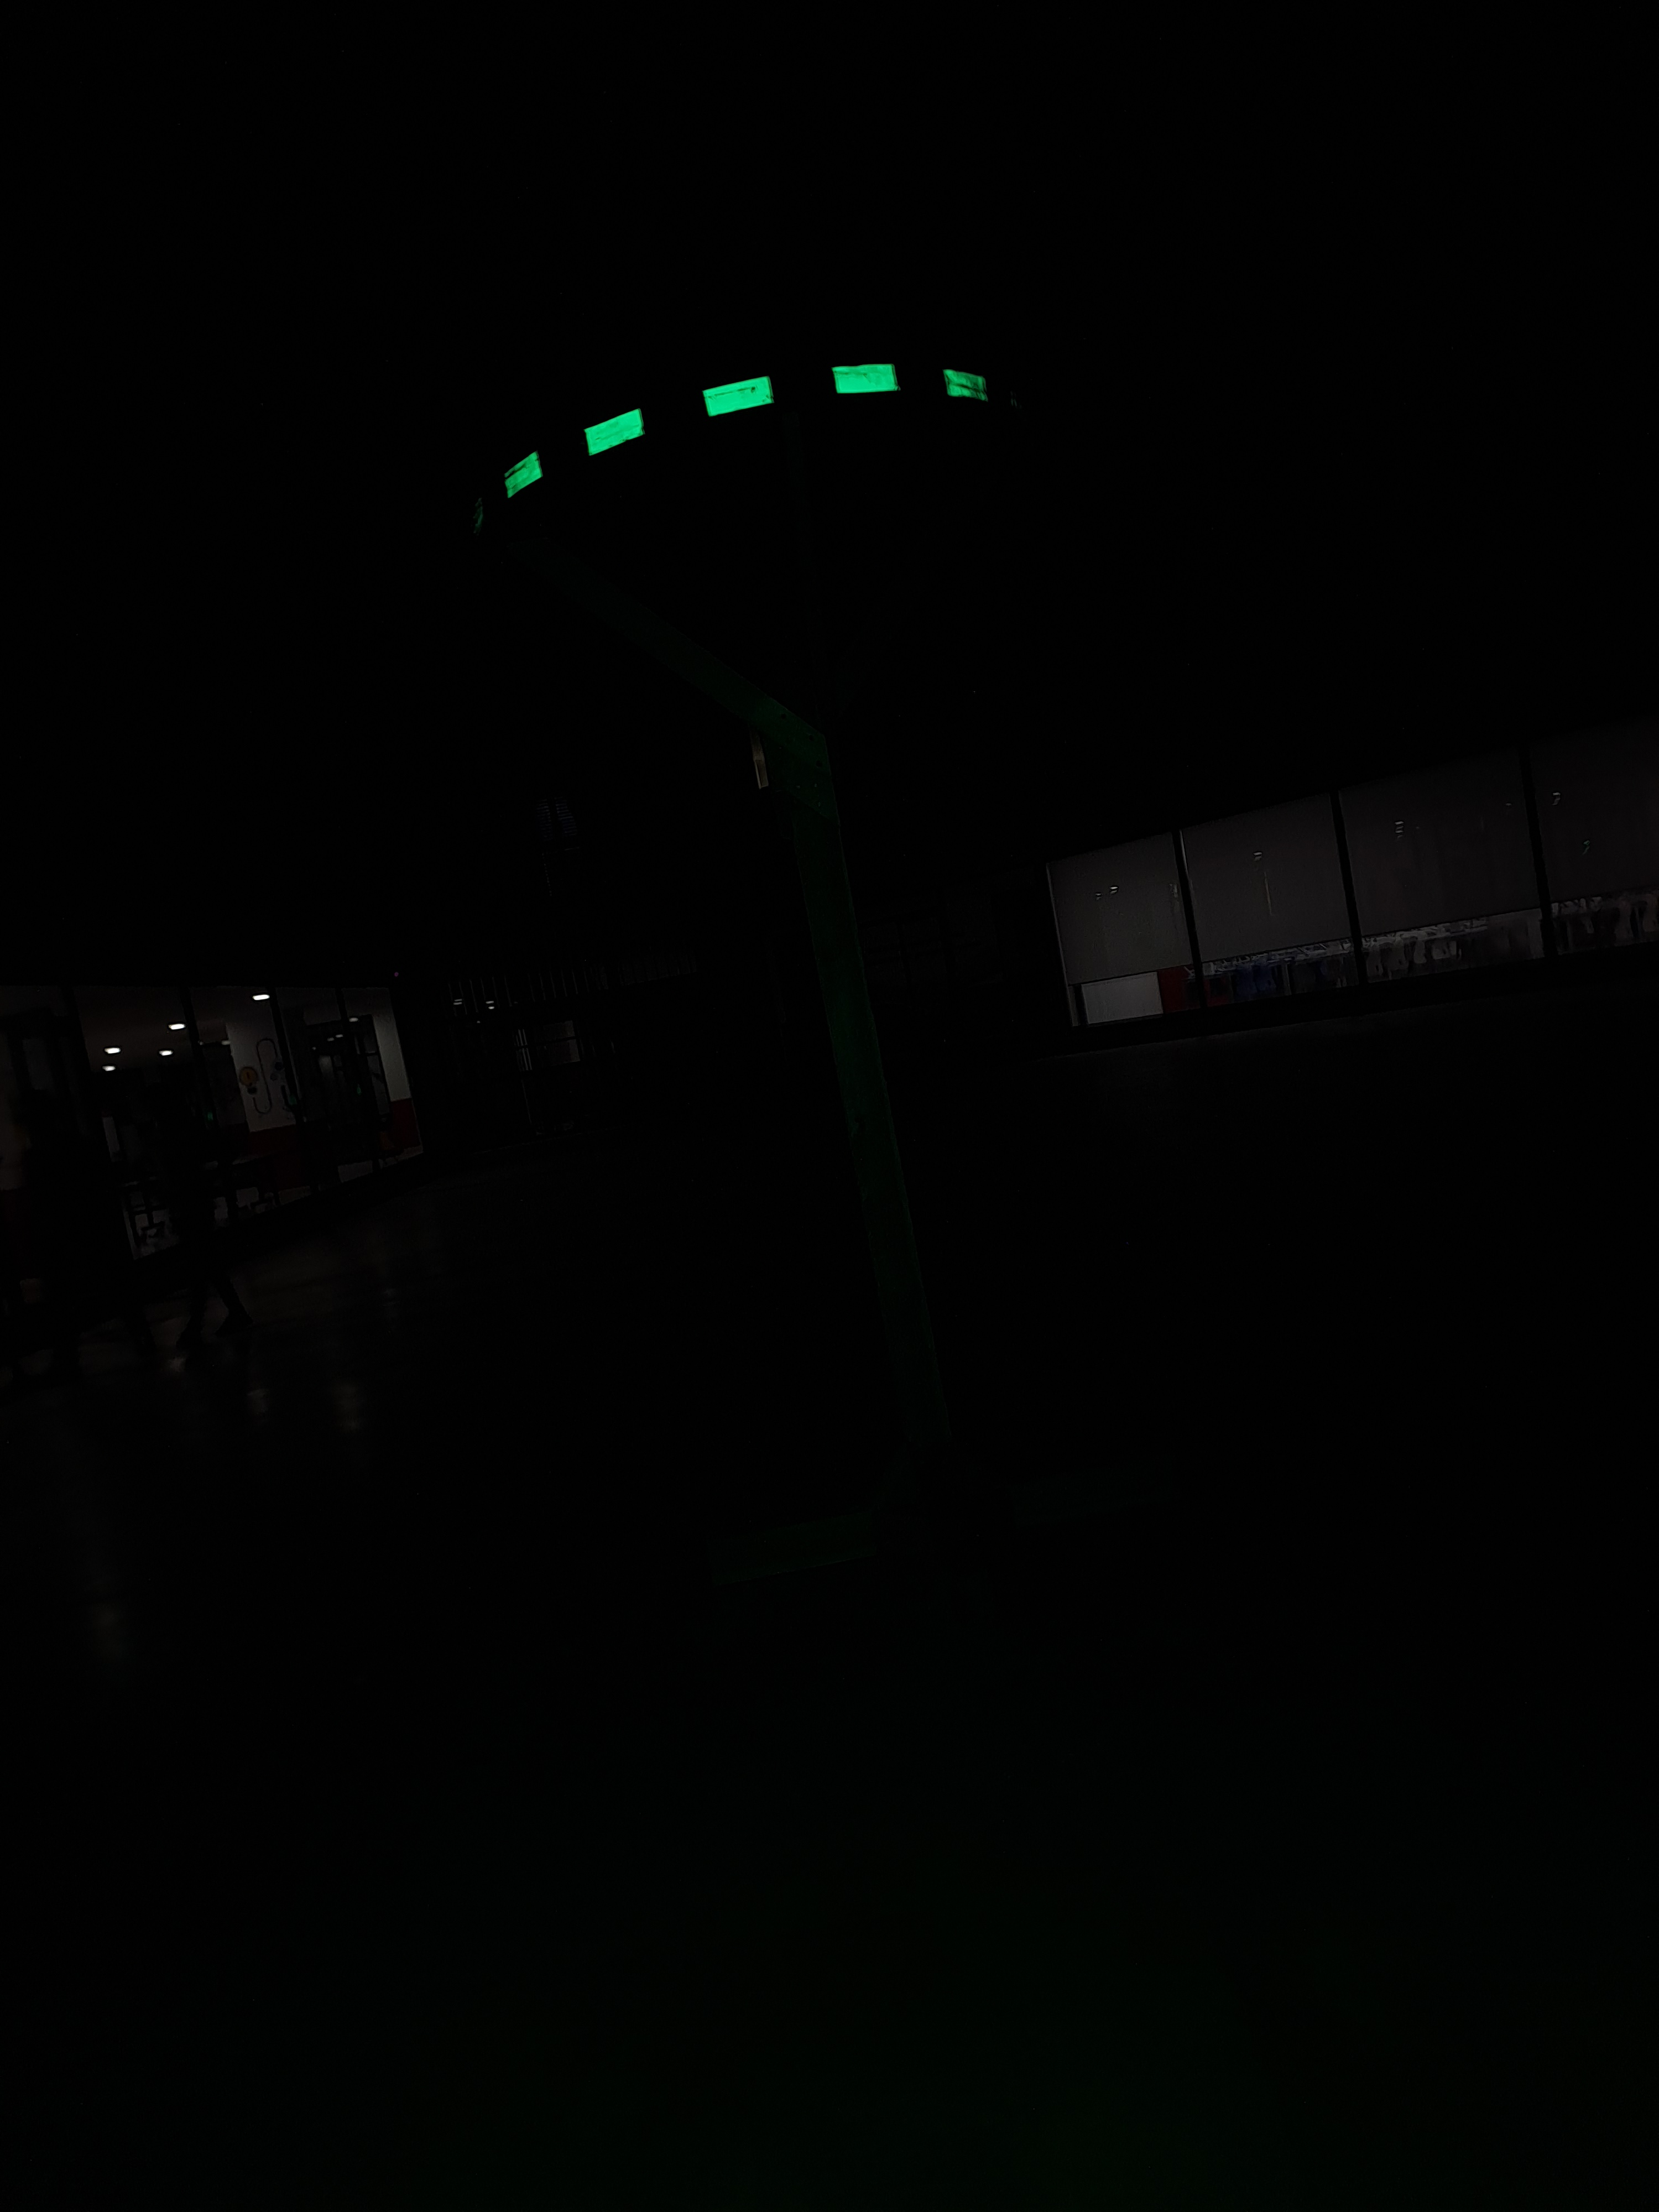hoop: (490, 355, 999, 507)
